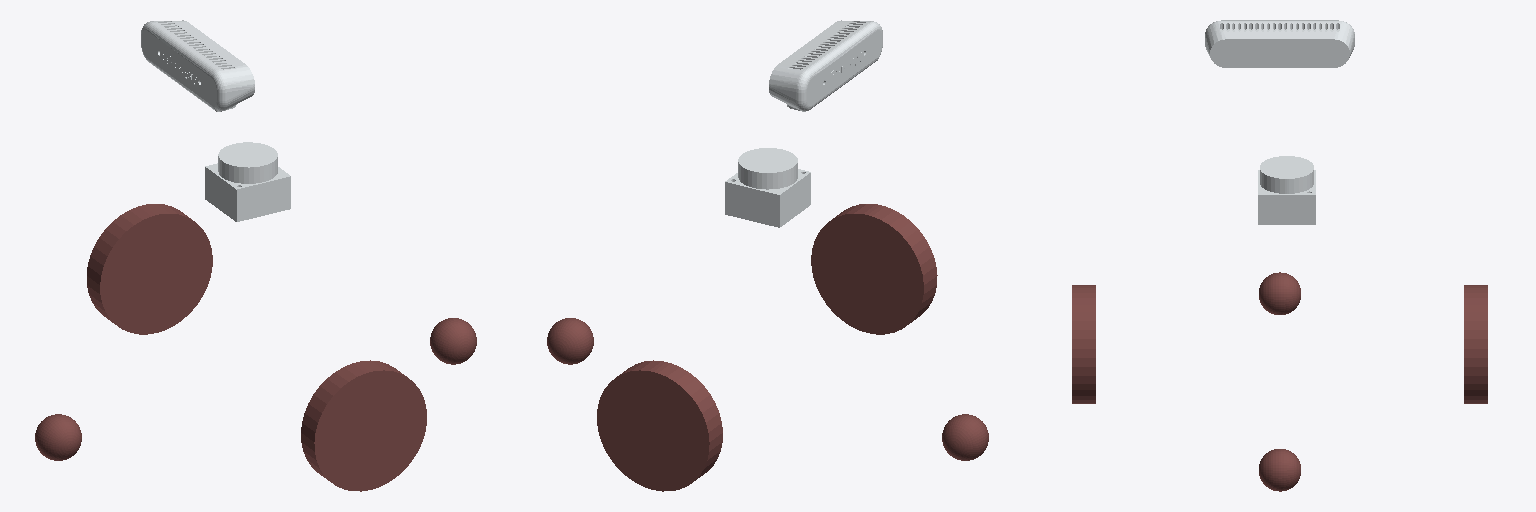
URDF robot description (roomba_jaya_v1):
<?xml version="1.0" encoding="utf-8"?>
<!-- This URDF was automatically created by SolidWorks to URDF Exporter! Originally created by [author] ([email redacted]) 
     Commit Version: 1.6.0-4-g7f85cfe  Build Version: 1.6.7995.38578
     For more information, please see http://wiki.ros.org/sw_urdf_exporter -->
<robot
  name="roomba_jaya_v1">
  <link
    name="base_link">
    <inertial>
      <origin
        xyz="-0.0093355 -8.3957E-05 0.089562"
        rpy="0 0 0" />
      <mass
        value="0.76674" />
      <inertia
        ixx="0.0041566"
        ixy="7.7171E-07"
        ixz="4.6778E-06"
        iyy="0.0029256"
        iyz="-1.0362E-08"
        izz="0.007036" />
    </inertial>
    <visual>
      <origin
        xyz="0 0 0"
        rpy="0 0 0" />
      <geometry>
        <mesh
          filename="package://roomba_jaya_v1/meshes/base_link.STL" />
      </geometry>
      <material
        name="">
        <color
          rgba="0.53725 0.34902 0.33725 1" />
      </material>
    </visual>
    <collision>
      <origin
        xyz="0 0 0"
        rpy="0 0 0" />
      <geometry>
        <mesh
          filename="package://roomba_jaya_v1/meshes/base_link.STL" />
      </geometry>
    </collision>
  </link>
  <link
    name="rueda_derecha_link">
    <inertial>
      <origin
        xyz="0 6.9389E-18 1.3878E-17"
        rpy="0 0 0" />
      <mass
        value="0.54355" />
      <inertia
        ixx="0.0001863"
        ixy="1.4695E-22"
        ixz="-2.1869E-13"
        iyy="0.0001863"
        iyz="-1.1148E-13"
        izz="0.00035222" />
    </inertial>
    <visual>
      <origin
        xyz="0 0 0"
        rpy="0 0 0" />
      <geometry>
        <mesh
          filename="package://roomba_jaya_v1/meshes/rueda_derecha_link.STL" />
      </geometry>
      <material
        name="">
        <color
          rgba="0.53725 0.34902 0.33725 1" />
      </material>
    </visual>
    <collision>
      <origin
        xyz="0 0 0"
        rpy="0 0 0" />
      <geometry>
        <mesh
          filename="package://roomba_jaya_v1/meshes/rueda_derecha_link.STL" />
      </geometry>
    </collision>
  </link>
  <joint
    name="rueda_derecha_joint"
    type="continuous">
    <origin
      xyz="0.0041248 -0.11845 0.020249"
      rpy="1.5708 0 3.1416" />
    <parent
      link="base_link" />
    <child
      link="rueda_derecha_link" />
    <axis
      xyz="0 0 1" />
    <limit
      effort="100"
      velocity="100" />
    <dynamics
      damping="0.1"
      friction="0.1" />
  </joint>
  <link
    name="rueda_izquierda_link">
    <inertial>
      <origin
        xyz="0 6.9389E-18 1.3878E-17"
        rpy="0 0 0" />
      <mass
        value="0.54355" />
      <inertia
        ixx="0.0001863"
        ixy="-1.1556E-26"
        ixz="2.1869E-13"
        iyy="0.0001863"
        iyz="-8.79E-18"
        izz="0.00035222" />
    </inertial>
    <visual>
      <origin
        xyz="0 0 0"
        rpy="0 0 0" />
      <geometry>
        <mesh
          filename="package://roomba_jaya_v1/meshes/rueda_izquierda_link.STL" />
      </geometry>
      <material
        name="">
        <color
          rgba="0.53725 0.34902 0.33725 1" />
      </material>
    </visual>
    <collision>
      <origin
        xyz="0 0 0"
        rpy="0 0 0" />
      <geometry>
        <mesh
          filename="package://roomba_jaya_v1/meshes/rueda_izquierda_link.STL" />
      </geometry>
    </collision>
  </link>
  <joint
    name="rueda_izquierda_joint"
    type="continuous">
    <origin
      xyz="0.0041248 0.11843 0.020249"
      rpy="1.5708 0 3.1416" />
    <parent
      link="base_link" />
    <child
      link="rueda_izquierda_link" />
    <axis
      xyz="0 0 1" />
    <limit
      effort="100"
      velocity="100" />
    <dynamics
      damping="0.1"
      friction="0.1" />
  </joint>
  <link
    name="castor_front_link">
    <inertial>
      <origin
        xyz="0 3.2526E-19 0"
        rpy="0 0 0" />
      <mass
        value="0.04476" />
      <inertia
        ixx="2.0225E-06"
        ixy="8.7865E-39"
        ixz="-2.9848E-29"
        iyy="2.0225E-06"
        iyz="3.6436E-33"
        izz="2.0225E-06" />
    </inertial>
    <visual>
      <origin
        xyz="0 0 0"
        rpy="0 0 0" />
      <geometry>
        <mesh
          filename="package://roomba_jaya_v1/meshes/castor_front_link.STL" />
      </geometry>
      <material
        name="">
        <color
          rgba="0.53725 0.34902 0.33725 1" />
      </material>
    </visual>
    <collision>
      <origin
        xyz="0 0 0"
        rpy="0 0 0" />
      <geometry>
        <mesh
          filename="package://roomba_jaya_v1/meshes/castor_front_link.STL" />
      </geometry>
    </collision>
  </link>
  <joint
    name="castor_front_joint"
    type="fixed">
    <origin
      xyz="0.12959 0 -0.0051221"
      rpy="0 0 0" />
    <parent
      link="base_link" />
    <child
      link="castor_front_link" />
    <axis
      xyz="0 0 0" />
    <limit
      effort="100"
      velocity="100" />
    <dynamics
      damping="0.1"
      friction="0.1" />
  </joint>
  <link
    name="castor_back_link">
    <inertial>
      <origin
        xyz="0 3.2526E-19 0"
        rpy="0 0 0" />
      <mass
        value="0.04476" />
      <inertia
        ixx="2.0225E-06"
        ixy="1.0325E-36"
        ixz="1.8655E-30"
        iyy="2.0225E-06"
        iyz="-1.9278E-28"
        izz="2.0225E-06" />
    </inertial>
    <visual>
      <origin
        xyz="0 0 0"
        rpy="0 0 0" />
      <geometry>
        <mesh
          filename="package://roomba_jaya_v1/meshes/castor_back_link.STL" />
      </geometry>
      <material
        name="">
        <color
          rgba="0.53725 0.34902 0.33725 1" />
      </material>
    </visual>
    <collision>
      <origin
        xyz="0 0 0"
        rpy="0 0 0" />
      <geometry>
        <mesh
          filename="package://roomba_jaya_v1/meshes/castor_back_link.STL" />
      </geometry>
    </collision>
  </link>
  <joint
    name="castor_back_joint"
    type="fixed">
    <origin
      xyz="-0.12241 0 -0.0051221"
      rpy="0 0 0" />
    <parent
      link="base_link" />
    <child
      link="castor_back_link" />
    <axis
      xyz="0 0 0" />
    <limit
      effort="100"
      velocity="100" />
    <dynamics
      damping="0.1"
      friction="0.1" />
  </joint>
  <link
    name="camara_link">
    <inertial>
      <origin
        xyz="0.011556 1.1261E-05 -0.00013612"
        rpy="0 0 0" />
      <mass
        value="0.10771" />
      <inertia
        ixx="7.1119E-05"
        ixy="-1.8104E-08"
        ixz="4.9149E-08"
        iyy="7.6952E-06"
        iyz="-1.019E-10"
        izz="7.0122E-05" />
    </inertial>
    <visual>
      <origin
        xyz="0 0 0"
        rpy="0 0 0" />
      <geometry>
        <mesh
          filename="package://roomba_jaya_v1/meshes/camara_link.STL" />
      </geometry>
      <material
        name="">
        <color
          rgba="0.89804 0.91765 0.92941 1" />
      </material>
    </visual>
    <collision>
      <origin
        xyz="0 0 0"
        rpy="0 0 0" />
      <geometry>
        <mesh
          filename="package://roomba_jaya_v1/meshes/camara_link.STL" />
      </geometry>
    </collision>
  </link>
  <joint
    name="camara_joint"
    type="fixed">
    <origin
      xyz="-0.045307 0 0.20223"
      rpy="0 0 0" />
    <parent
      link="base_link" />
    <child
      link="camara_link" />
    <axis
      xyz="0 0 0" />
    <limit
      effort="100"
      velocity="100" />
    <dynamics
      damping="0.1"
      friction="0.1" />
  </joint>
  <link
    name="lidar_link">
    <inertial>
      <origin
        xyz="-1.3901E-06 -4.1219E-07 0.013915"
        rpy="0 0 0" />
      <mass
        value="0.08848" />
      <inertia
        ixx="1.4384E-05"
        ixy="-1.5173E-07"
        ixz="1.3634E-09"
        iyy="1.4384E-05"
        iyz="4.0427E-10"
        izz="1.6345E-05" />
    </inertial>
    <visual>
      <origin
        xyz="0 0 0"
        rpy="0 0 0" />
      <geometry>
        <mesh
          filename="package://roomba_jaya_v1/meshes/lidar_link.STL" />
      </geometry>
      <material
        name="">
        <color
          rgba="0.89804 0.91765 0.92941 1" />
      </material>
    </visual>
    <collision>
      <origin
        xyz="0 0 0"
        rpy="0 0 0" />
      <geometry>
        <mesh
          filename="package://roomba_jaya_v1/meshes/lidar_link.STL" />
      </geometry>
    </collision>
  </link>
  <joint
    name="lidar_joint"
    type="fixed">
    <origin
      xyz="0.0010554 0.0042304 0.10673"
      rpy="0 0 0" />
    <parent
      link="base_link" />
    <child
      link="lidar_link" />
    <axis
      xyz="0 0 0" />
    <limit
      effort="100"
      velocity="100" />
    <dynamics
      damping="0.1"
      friction="0.1" />
  </joint>
</robot>

--- What the picture shows (computed from the rendered views, not written in the file) ---
The picture shows the robot from 3 angles, left to right: view 1: azimuth 30°, elevation 25°; view 2: azimuth 150°, elevation 25°; view 3: azimuth 270°, elevation 25°; orthographic projection.
Robot: roomba_jaya_v1 — 7 links, 6 joints (2 continuous, 4 fixed); root link base_link; default pose: all joints at 0.
Links seen in each view (by area): view 1: rueda_izquierda_link, rueda_derecha_link, camara_link, lidar_link, castor_back_link, castor_front_link; view 2: rueda_izquierda_link, rueda_derecha_link, camara_link, lidar_link, castor_back_link, castor_front_link; view 3: camara_link, lidar_link, rueda_derecha_link, rueda_izquierda_link, castor_front_link, castor_back_link.
Link boxes in pixels (x1=…): rueda_izquierda_link: x1=87, y1=204, x2=212, y2=334; rueda_derecha_link: x1=301, y1=360, x2=426, y2=491; camara_link: x1=141, y1=20, x2=254, y2=111; lidar_link: x1=205, y1=142, x2=290, y2=221; castor_back_link: x1=35, y1=414, x2=81, y2=460; castor_front_link: x1=430, y1=318, x2=476, y2=364; rueda_izquierda_link: x1=597, y1=360, x2=722, y2=491; rueda_derecha_link: x1=811, y1=204, x2=937, y2=334; camara_link: x1=769, y1=20, x2=882, y2=111; lidar_link: x1=725, y1=148, x2=810, y2=227; castor_back_link: x1=942, y1=414, x2=988, y2=460; castor_front_link: x1=547, y1=318, x2=593, y2=364; camara_link: x1=1205, y1=20, x2=1354, y2=67; lidar_link: x1=1258, y1=156, x2=1315, y2=224; rueda_derecha_link: x1=1072, y1=285, x2=1095, y2=403; rueda_izquierda_link: x1=1464, y1=285, x2=1487, y2=403; castor_front_link: x1=1259, y1=449, x2=1300, y2=491; castor_back_link: x1=1259, y1=272, x2=1300, y2=314.
Bounding box of the posed robot: 0.2779 × 0.2519 × 0.2326 m (x, y, z).
Meshes: 7 distinct files referenced, 6 mesh visuals loaded (6 binary STL); not drawn: 1 (reference not matched to a file when rendering).
